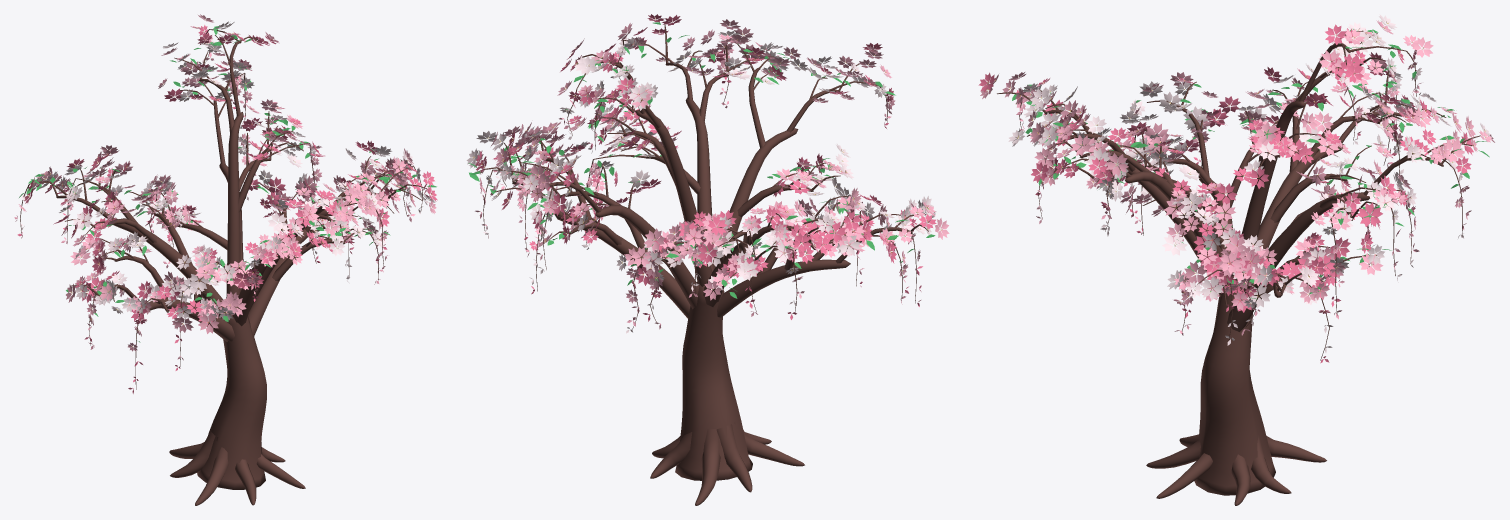
The model's file is sakura_tree.glb.
3 renders of one model, left to right at view 1: azimuth 30°, elevation 25°; view 2: azimuth 150°, elevation 25°; view 3: azimuth 270°, elevation 25°, orthographic. The views are drawn at different scales.
Visible parts, largest first — view 1: SakuraTree; view 2: SakuraTree; view 3: SakuraTree.
Part boxes in pixels (x1,y1,x2,y2): SakuraTree: (14,14,437,505); SakuraTree: (466,14,949,505); SakuraTree: (978,14,1494,505).
Size of the model in its own units: 6.87 by 6.92 by 6.75.
